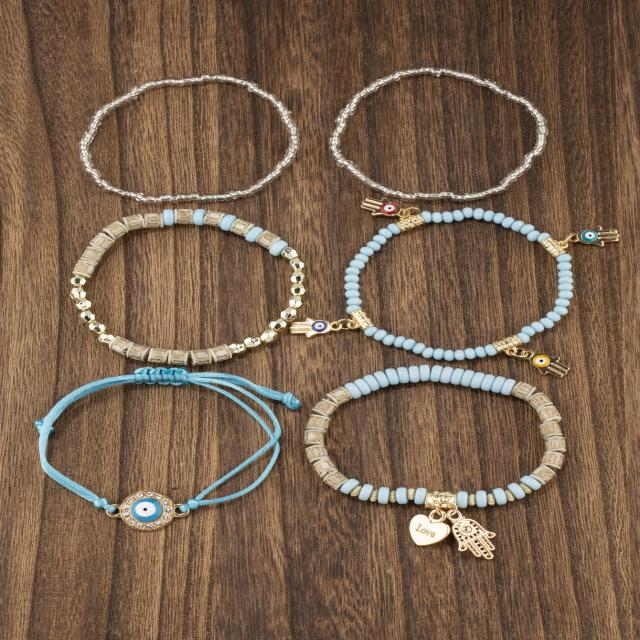bracelet: (290, 366, 640, 576), (296, 203, 640, 368), (26, 16, 316, 208), (312, 28, 594, 208), (13, 364, 297, 540), (51, 194, 301, 365)
